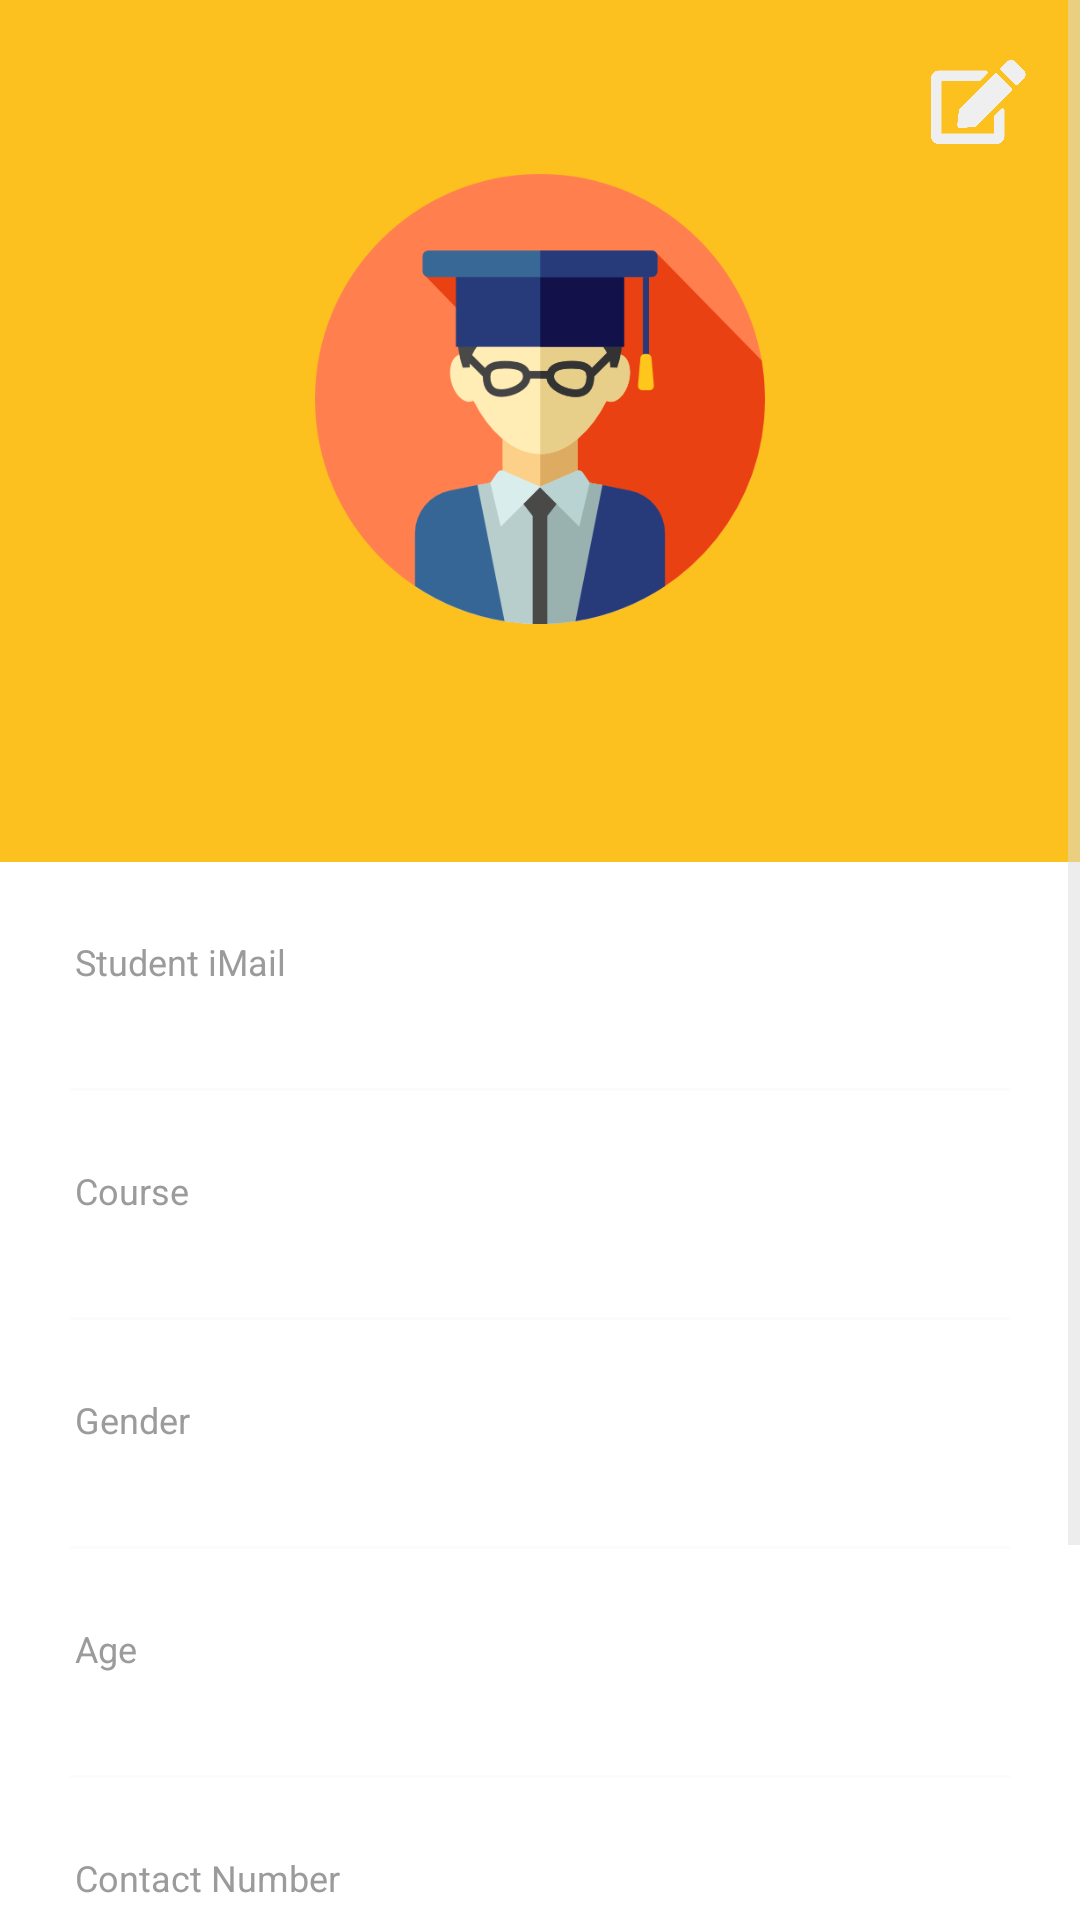

Named icons in this screenshot (1080x1920) and their centers, point (x, y):
edit: point (978, 102)
